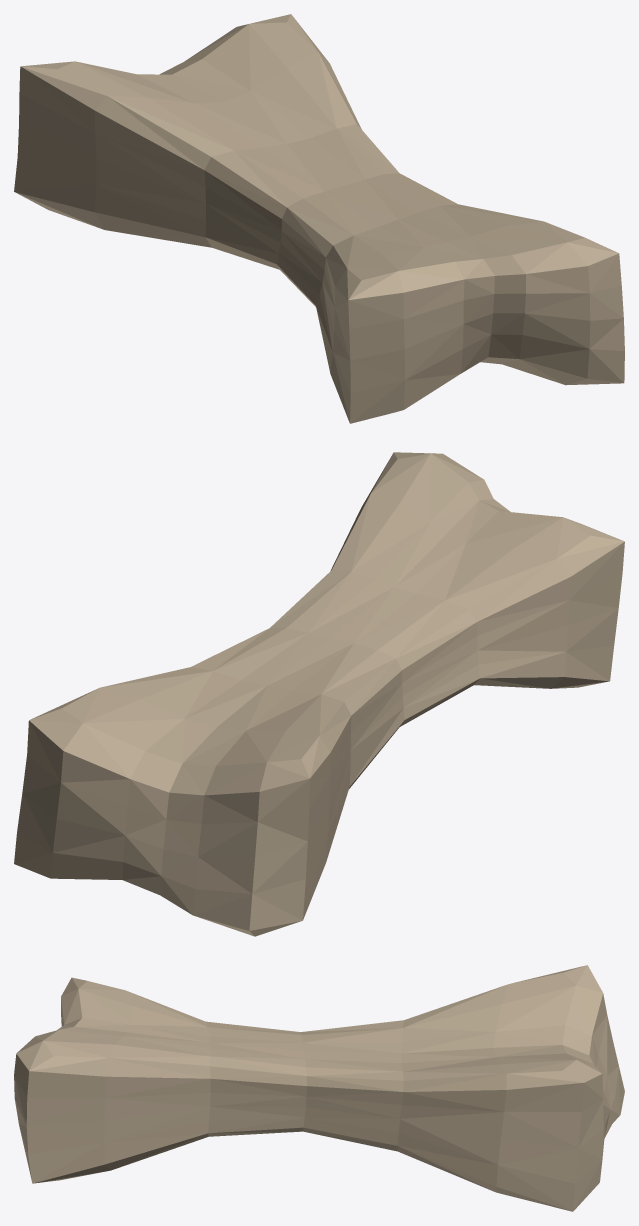
The model's file is кость.fbx.
3 renders of one model, top to bottom at view 1: azimuth 30°, elevation 25°; view 2: azimuth 150°, elevation 25°; view 3: azimuth 270°, elevation 25°, orthographic. The views are drawn at different scales.
Parts seen in each view (by area): view 1: кость; view 2: кость; view 3: кость.
Boxes of the visible parts, x1,y1,x2,y2 form: кость: [14, 14, 624, 423]; кость: [14, 452, 624, 936]; кость: [14, 965, 624, 1211].
Bounding box in the file's own units: 263 × 150 × 582.
